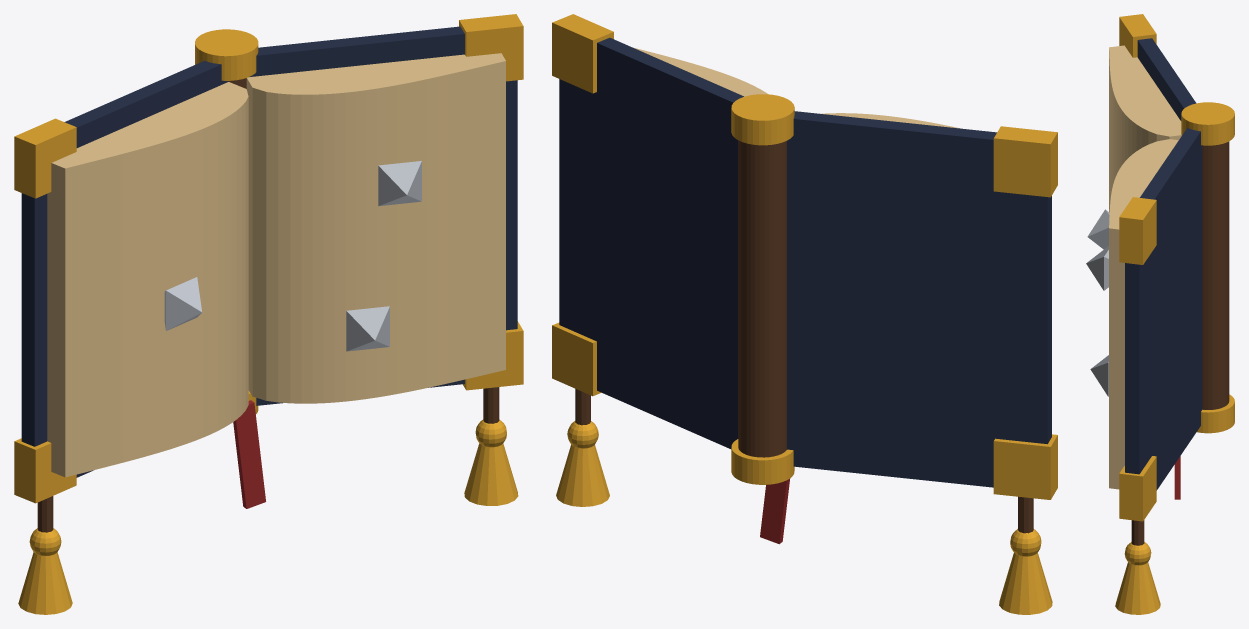
The model's file is Grimoire.ready.glb.
The picture shows the model from 3 angles, left to right: view 1: azimuth 30°, elevation 25°; view 2: azimuth 150°, elevation 25°; view 3: azimuth 270°, elevation 25°; orthographic projection. The views are drawn at different scales.
Visible parts, largest first — view 1: Grimoire; view 2: Grimoire; view 3: Grimoire.
Boxes of the visible parts, x1,y1,x2,y2 form: Grimoire: (14,14,523,614); Grimoire: (552,14,1057,614); Grimoire: (1086,14,1234,614).
Bounding box in the file's own units: 2.55 × 2.31 × 0.7793.
1 material, 1 textured.
